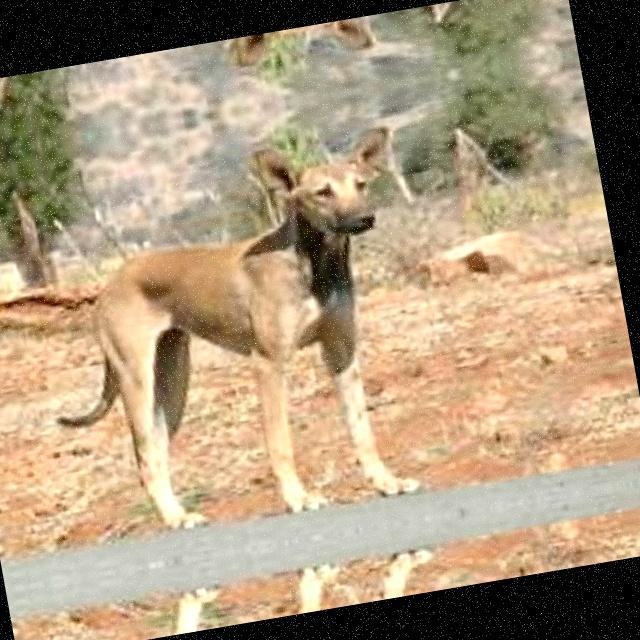dog: (41, 120, 478, 556), (113, 526, 494, 640), (21, 12, 398, 108)
